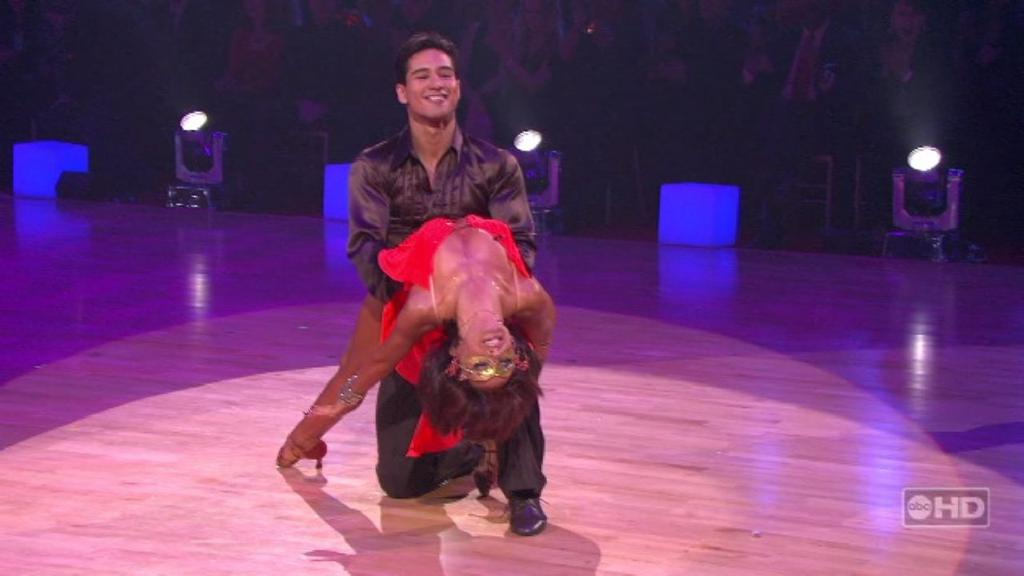face: (457, 326, 517, 389), (406, 51, 462, 116), (894, 6, 923, 45), (246, 1, 270, 27)
